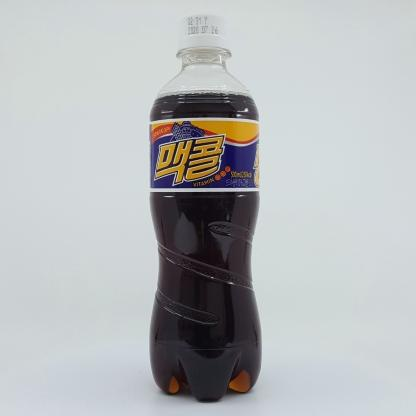-----500ML: (149, 14, 262, 401)
